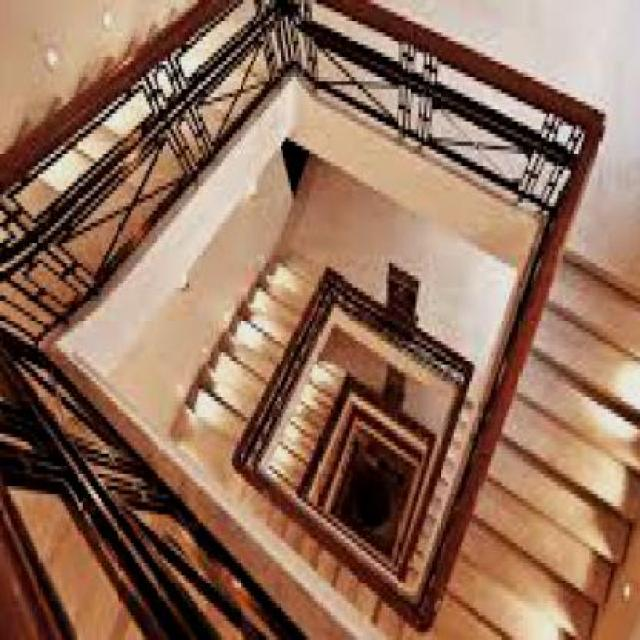stair: (404, 93, 640, 636), (171, 237, 346, 455)
